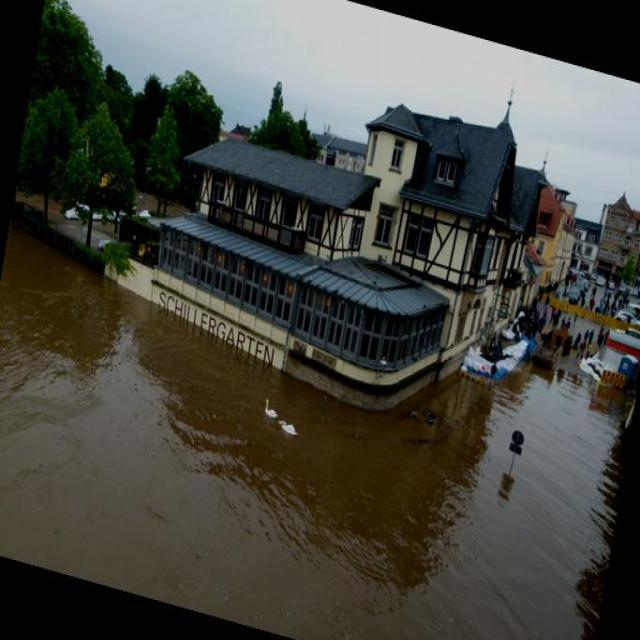flood: (0, 208, 637, 639)
